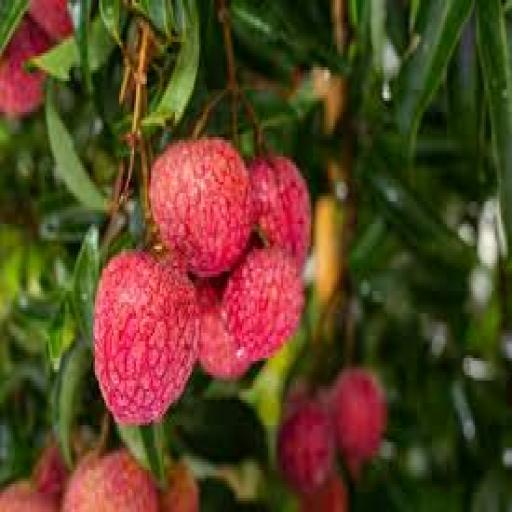lychee: (94, 252, 199, 425), (149, 138, 253, 276), (222, 247, 303, 360), (250, 157, 310, 265), (62, 451, 158, 511), (278, 401, 335, 495), (198, 280, 251, 380), (332, 370, 387, 464), (0, 20, 48, 117), (32, 443, 68, 503), (161, 462, 199, 511), (300, 473, 348, 511), (30, 0, 72, 41), (0, 482, 57, 511)
